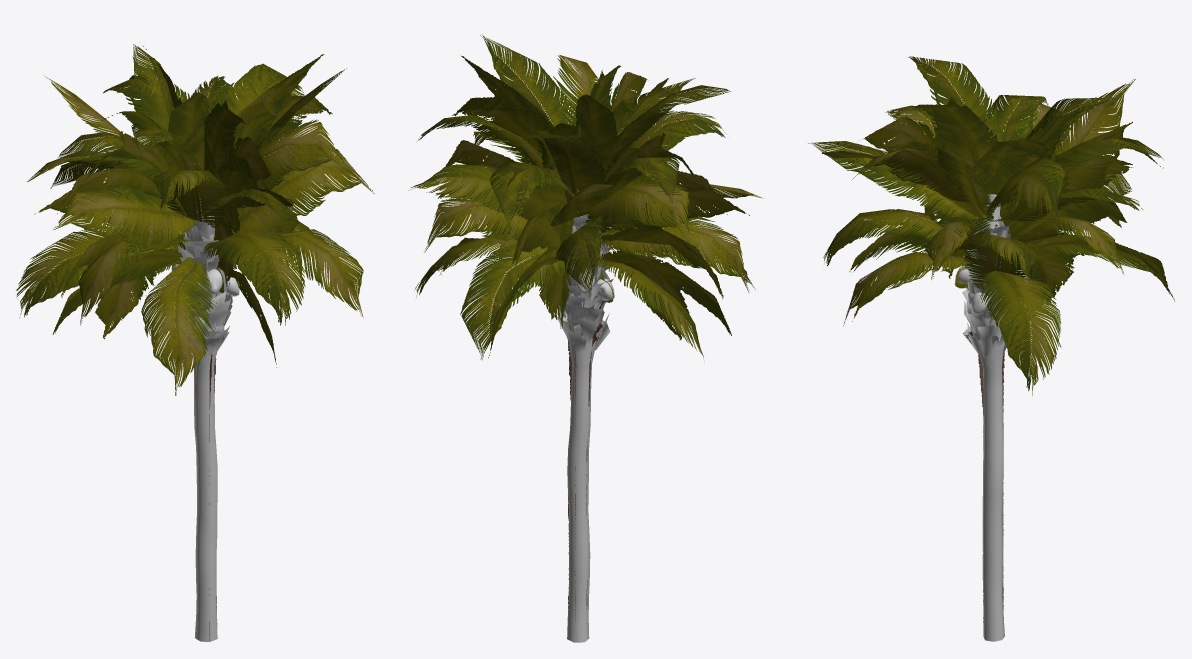
Rendered from Palm1.fbx.
3 renders of one model, left to right at view 1: azimuth 30°, elevation 25°; view 2: azimuth 150°, elevation 25°; view 3: azimuth 270°, elevation 25°, orthographic. The views are drawn at different scales.
Visible parts, largest first — view 1: LOD0, Billboard; view 2: LOD0, Billboard; view 3: LOD0, Billboard.
Boxes of the visible parts, x1,y1,x2,y2 form: LOD0: (16, 44, 374, 641); Billboard: (34, 46, 334, 640); LOD0: (409, 34, 763, 642); Billboard: (439, 56, 749, 628); LOD0: (808, 56, 1174, 641); Billboard: (821, 97, 1172, 622).
Size of what is drawn, in the model's own units: 526 by 880 by 545.
